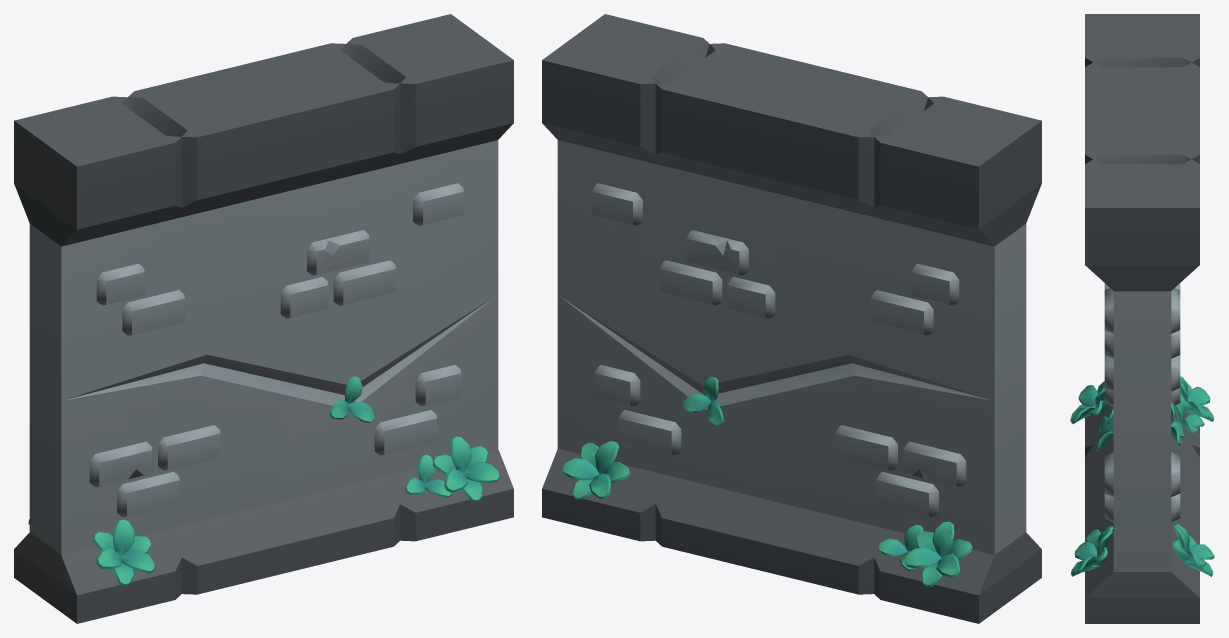
The model's file is wall_cracked.gltf.glb.
The picture shows the model from 3 angles, left to right: view 1: azimuth 30°, elevation 25°; view 2: azimuth 150°, elevation 25°; view 3: azimuth 270°, elevation 25°; orthographic projection. The views are drawn at different scales.
Visible parts, largest first — view 1: wall_cracked; view 2: wall_cracked; view 3: wall_cracked.
Part boxes in pixels (x1=…): wall_cracked: x1=14, y1=14, x2=513, y2=623; wall_cracked: x1=542, y1=14, x2=1041, y2=623; wall_cracked: x1=1070, y1=14, x2=1214, y2=623.
Size of the model in its own units: 4 by 4 by 1.26.
Materials: 1 (1 with a texture image).
